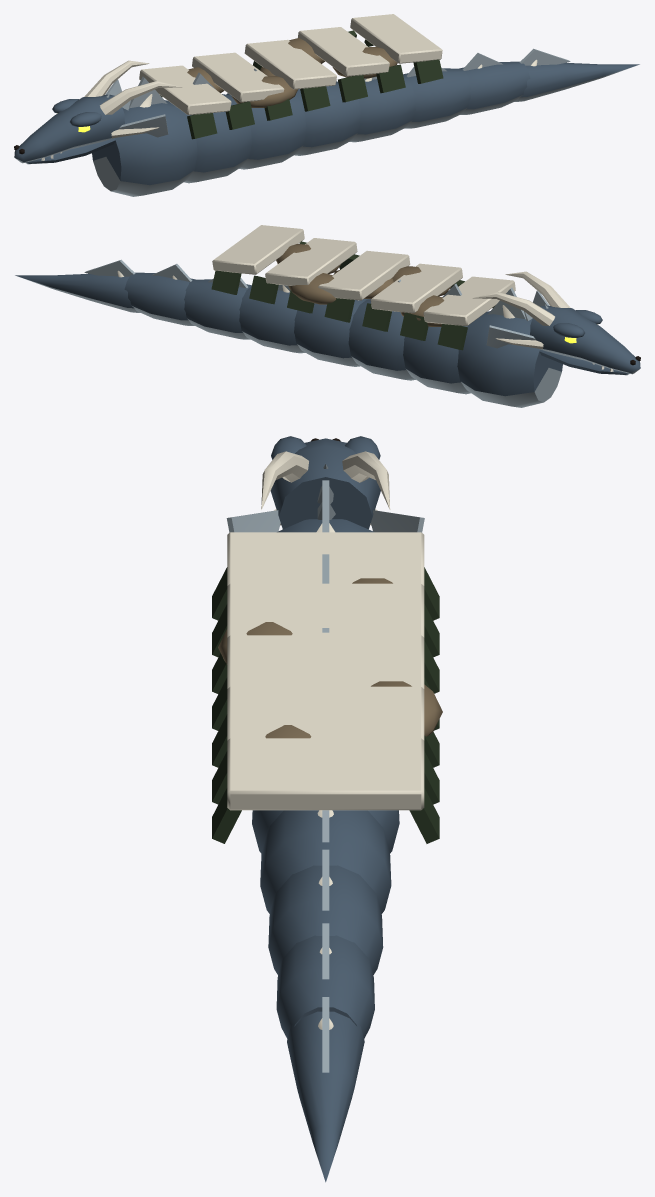
Rendered from wyrm.glb.
3 renders of one model, top to bottom at view 1: azimuth 30°, elevation 25°; view 2: azimuth 150°, elevation 25°; view 3: azimuth 270°, elevation 25°, orthographic. The views are drawn at different scales.
Parts seen in each view (by area): view 1: armorMelee, seg0, head, armorRanged, seg1, seg6, seg2, seg7, seg3, seg5, seg4, armorFire (+1 smaller); view 2: armorMelee, seg0, head, armorRanged, seg2, seg6, seg1, seg7, seg4, seg5, seg3, armorFire (+1 smaller); view 3: armorMelee, head, seg4, seg5, seg7, armorRanged, seg6, armorFire, seg3, seg0.
Boxes of the visible parts, x1,y1,x2,y2 form: armorMelee: (139,14,442,115); seg0: (92,76,197,196); head: (14,60,181,163); armorRanged: (160,30,443,139); seg1: (184,72,251,183); seg6: (459,53,530,114); seg2: (226,68,306,169); seg7: (514,48,639,101); seg3: (294,81,360,155); seg5: (403,66,470,128); seg4: (349,76,415,142); armorFire: (187,38,397,107); armorMelee: (212,225,515,326); seg0: (457,287,562,407); head: (473,271,640,374); armorRanged: (211,241,494,350); seg2: (348,279,415,380); seg6: (124,264,195,325); seg1: (403,283,470,394); seg7: (15,259,140,312); seg4: (239,285,305,353); seg5: (184,277,251,339); seg3: (294,299,370,366); armorFire: (276,244,451,326); armorMelee: (227,532,424,810); head: (226,436,424,532); seg4: (260,810,391,913); seg5: (268,849,383,975); seg7: (287,997,364,1182); armorRanged: (212,567,439,843); seg6: (276,923,374,1038); armorFire: (218,578,442,738); seg3: (252,810,399,853); seg0: (277,480,374,532).
Bounding box in the file's own units: 6.18 × 1.14 × 0.9855.
